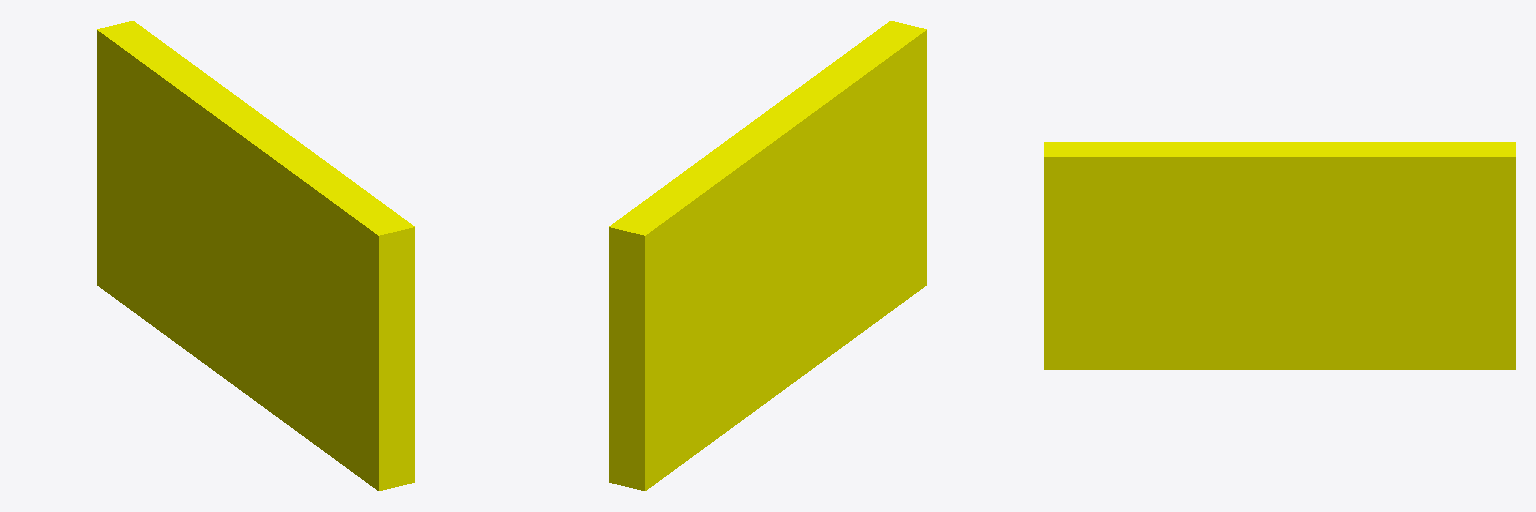
The robot description file, URDF, robot "cube":
<?xml version="0.0" ?>
<robot name="cube">
  <link name="baseLink">
    <contact>
      <lateral_friction value="1.0"/>
      <rolling_friction value="0.0"/>
      <contact_cfm value="10000.0"/>
      <contact_erp value="1000.0"/>
    </contact>
    <inertial>
      <origin rpy="0 0 0" xyz="0 0 0"/>
       <mass value="100.0"/>
       <inertia ixx="1000" ixy="1000" ixz="1000" iyy="1000" iyz="1000" izz="1000"/>
    </inertial>
    <visual>
      <origin rpy="0 0 0" xyz="0 0 0"/>
      <geometry>
        <!-- <mesh filename="turtlebot/turtlebot_description/meshes/stacks/hexagons/plate_top.dae"/> -->
        <!-- <mesh filename="[local-path]/SSHD/Robotics/Prev_Work/robot_prototypes/pybullet_robots/Turtlebot/data/kutu.dae"/> -->

				<mesh filename="boston_box.obj" scale="0.15 2 1"/>
				<!-- <mesh filename="boston_box.obj" scale="0.1 1 1"/> -->
      </geometry>
       <material name="white">
        <color rgba="1 1 0 1"/>
      </material> 
    </visual>
    <collision>
      <origin rpy="0 0 0" xyz="0 0 0"/>
      <geometry>
	 	<box size="0.1 4 5"/>
      </geometry>
    </collision>
  </link>
</robot>

--- Render facts (derived) ---
3 views of the same robot in one strip: view 1: azimuth 30°, elevation 25°; view 2: azimuth 150°, elevation 25°; view 3: azimuth 270°, elevation 25° (orthographic).
Robot: cube — 1 links, 0 joints (none); root link baseLink; default pose: every joint at zero.
Links seen in each view (by area): view 1: baseLink; view 2: baseLink; view 3: baseLink.
Boxes of the visible links, x1,y1,x2,y2 form: baseLink: (97, 21, 414, 490); baseLink: (609, 21, 926, 490); baseLink: (1044, 142, 1515, 369).
Size in the robot's own frame: 0.3 by 4 by 2 metres.
1 mesh visuals loaded from 1 distinct referenced files (1 OBJ).